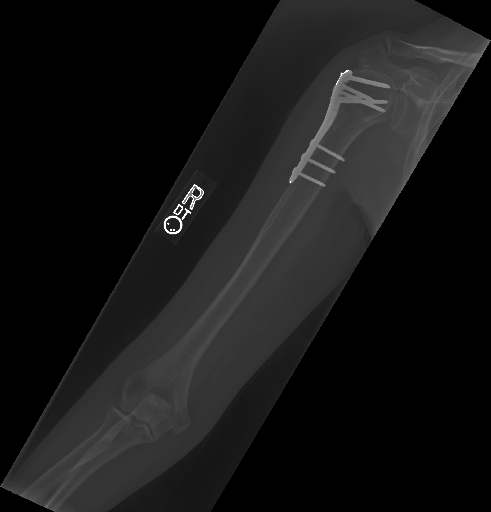implant: (288, 68, 395, 188)
